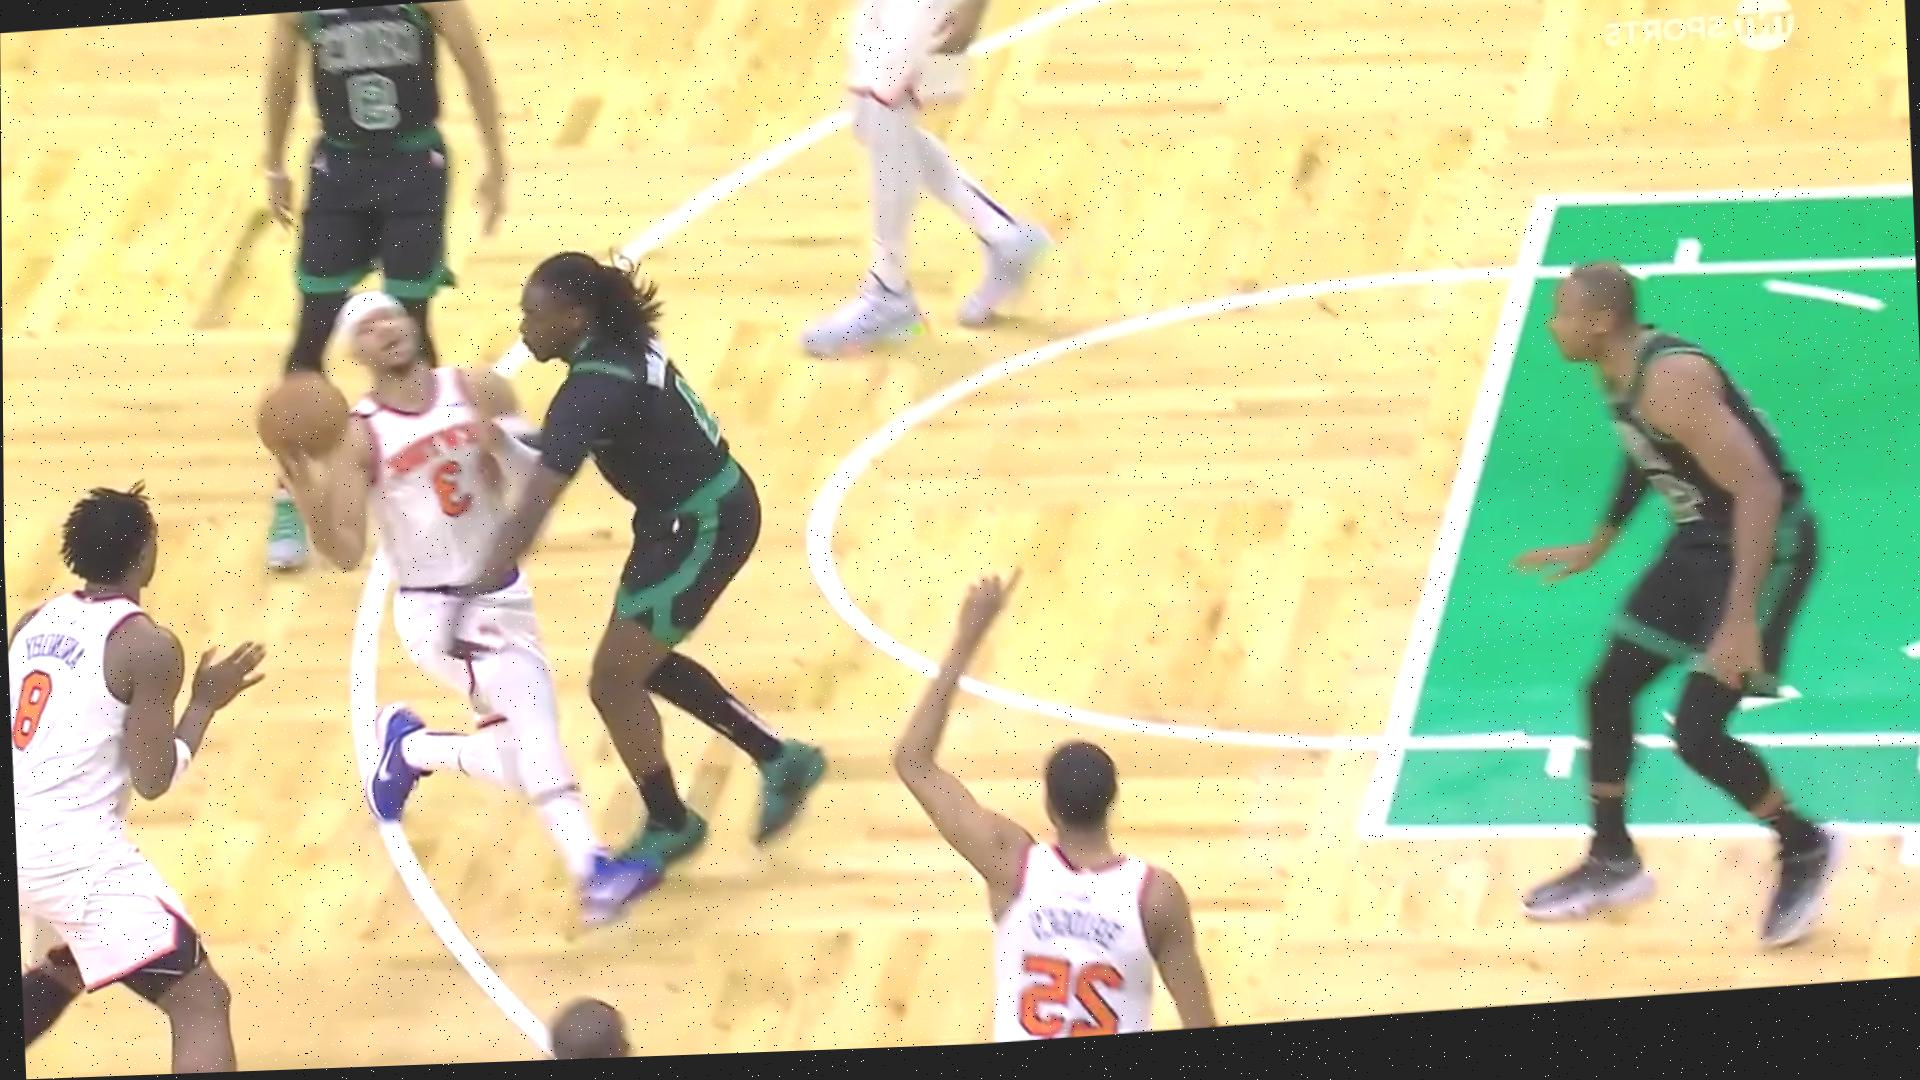foul: (255, 200, 779, 949)
